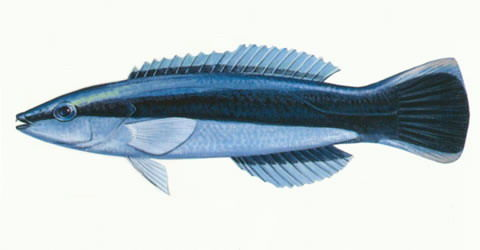fish: (14, 43, 470, 196)
